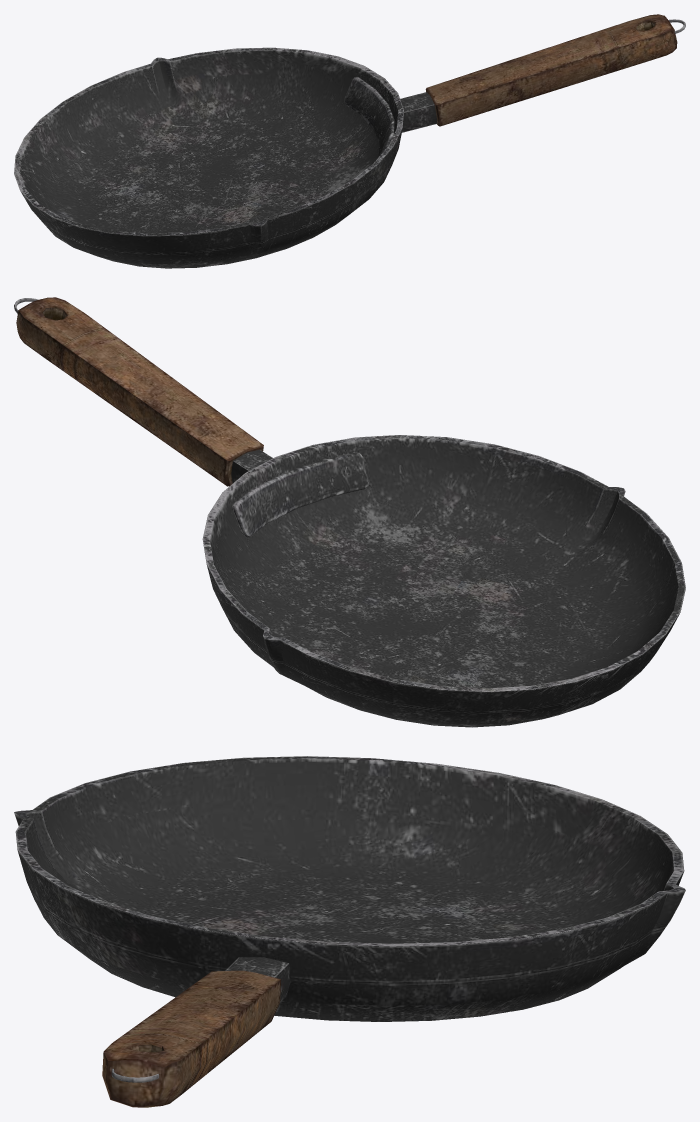
Rendered from frying_pan.glb.
3 renders of one model, top to bottom at view 1: azimuth 30°, elevation 25°; view 2: azimuth 150°, elevation 25°; view 3: azimuth 270°, elevation 25°, orthographic. The views are drawn at different scales.
Parts seen in each view (by area): view 1: Pan_low_base_0, Pan_low_wood_0; view 2: Pan_low_base_0, Pan_low_wood_0; view 3: Pan_low_base_0, Pan_low_wood_0.
Boxes of the visible parts, left/top/right/bottom form: Pan_low_base_0: left=14, top=19, right=685, bottom=268; Pan_low_wood_0: left=425, top=14, right=677, bottom=126; Pan_low_base_0: left=14, top=298, right=685, bottom=727; Pan_low_wood_0: left=16, top=297, right=263, bottom=486; Pan_low_base_0: left=14, top=756, right=685, bottom=1082; Pan_low_wood_0: left=102, top=970, right=280, bottom=1107.
Size of the model in its own units: 467 by 113 by 276.
2 materials, 2 textured.
